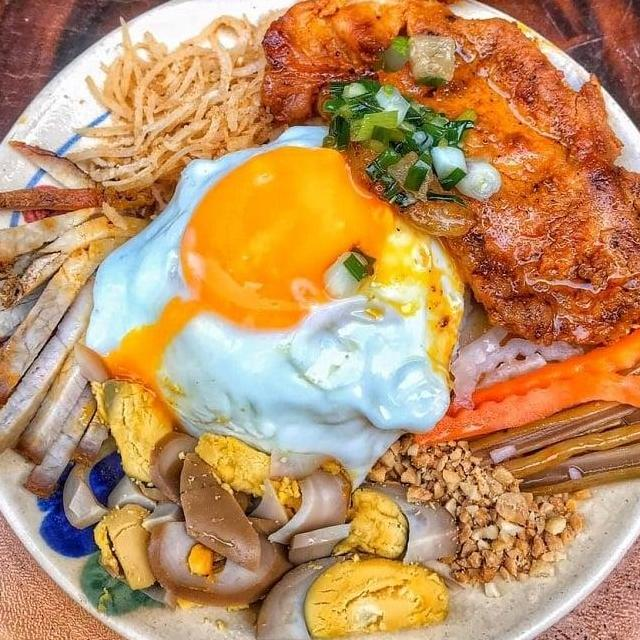bi: (59, 3, 297, 203)
com suon bi trung: (0, 7, 640, 640)
dua chua: (409, 316, 640, 497)
suon: (258, 0, 640, 351), (0, 138, 167, 500)
trung: (78, 122, 468, 499), (86, 374, 464, 640)
